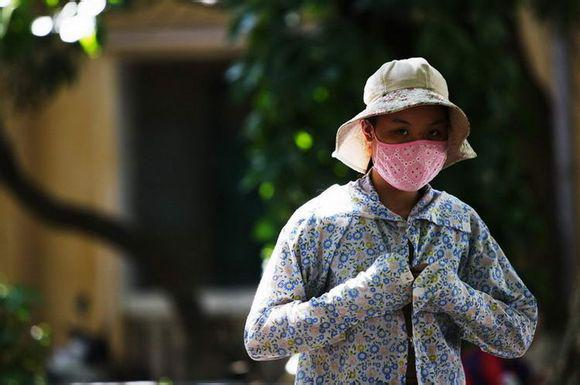OK: (382, 109, 461, 188)
